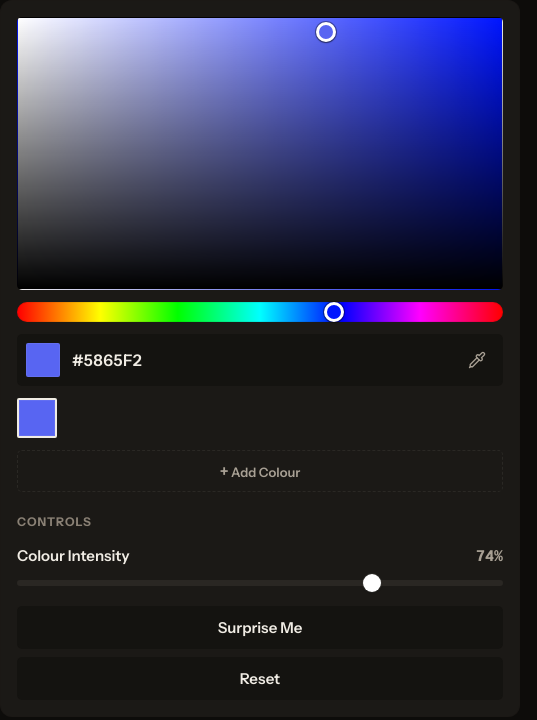
CustomThemeStudio › expands a three-digit shorthand
Replace the text in the field named "Hex colour value" with "#abc". click: (260, 360)
box: [72,350,448,370]
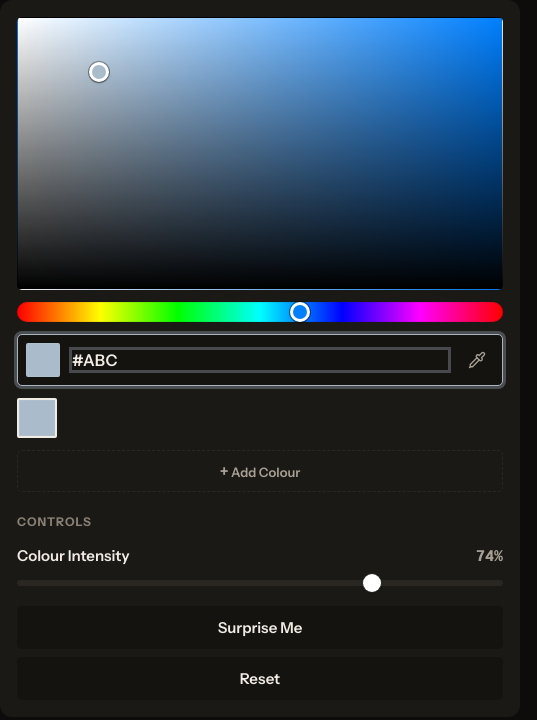
Press Tab
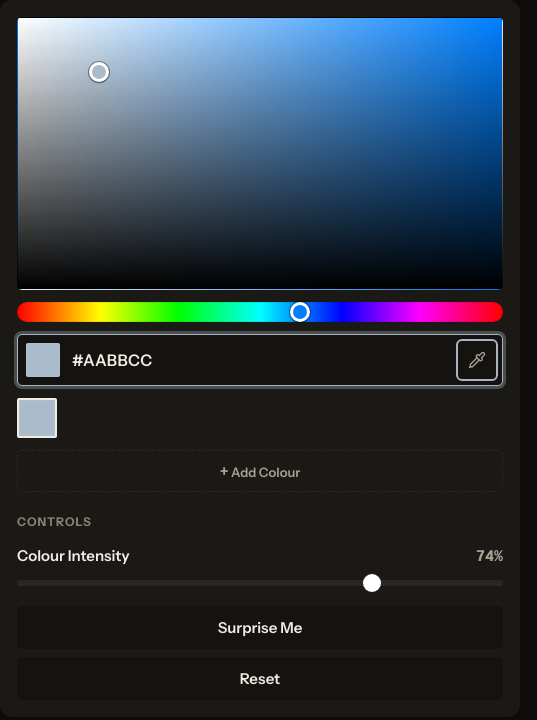
Check: the field named "Hex colour value" holds "#AABBCC", box [72,350,448,370]
